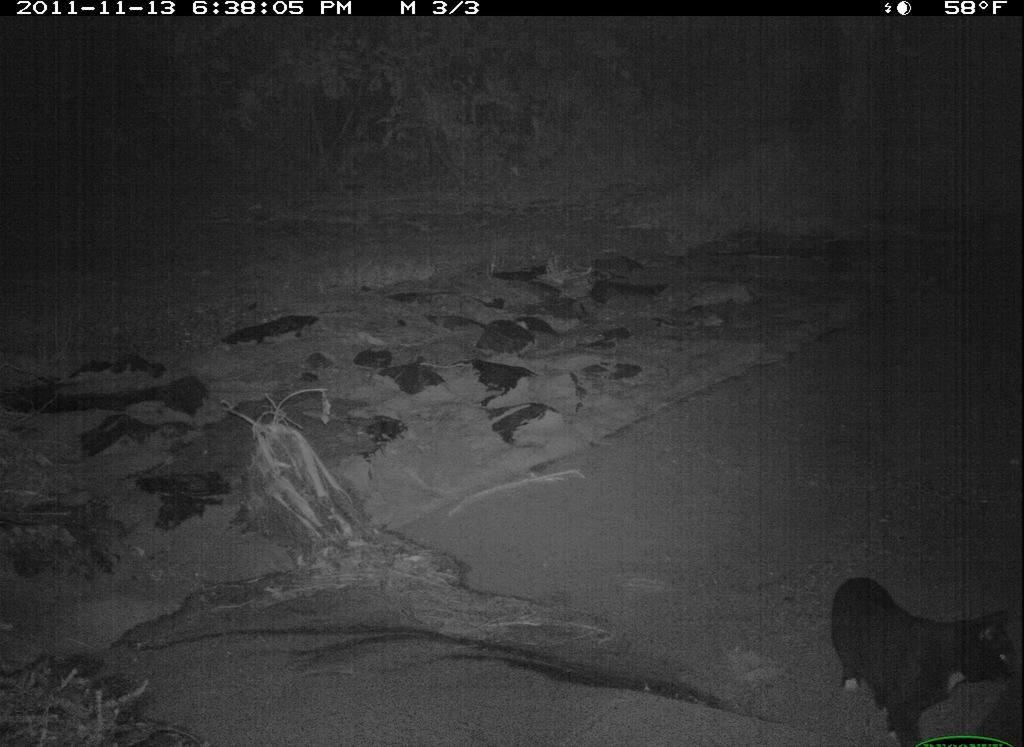cat: (825, 550, 1023, 737)
